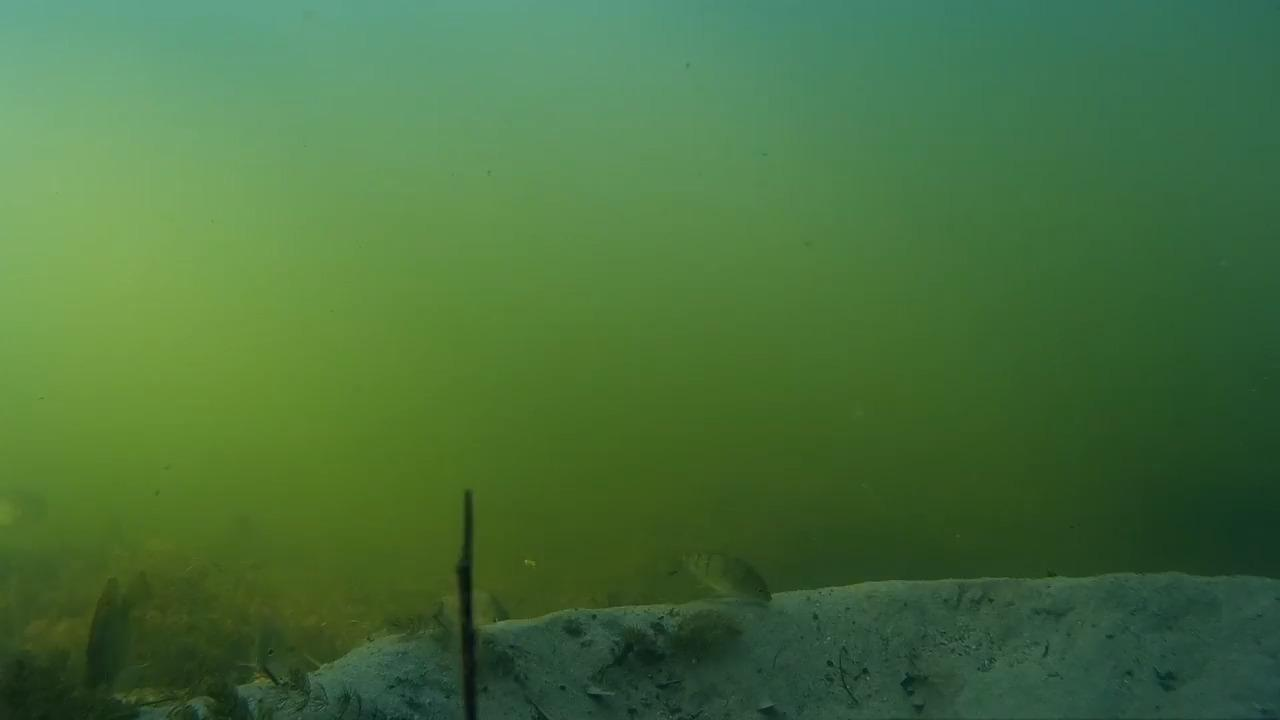Tilapia: (67, 552, 161, 688), (669, 536, 804, 630), (237, 588, 326, 690)
